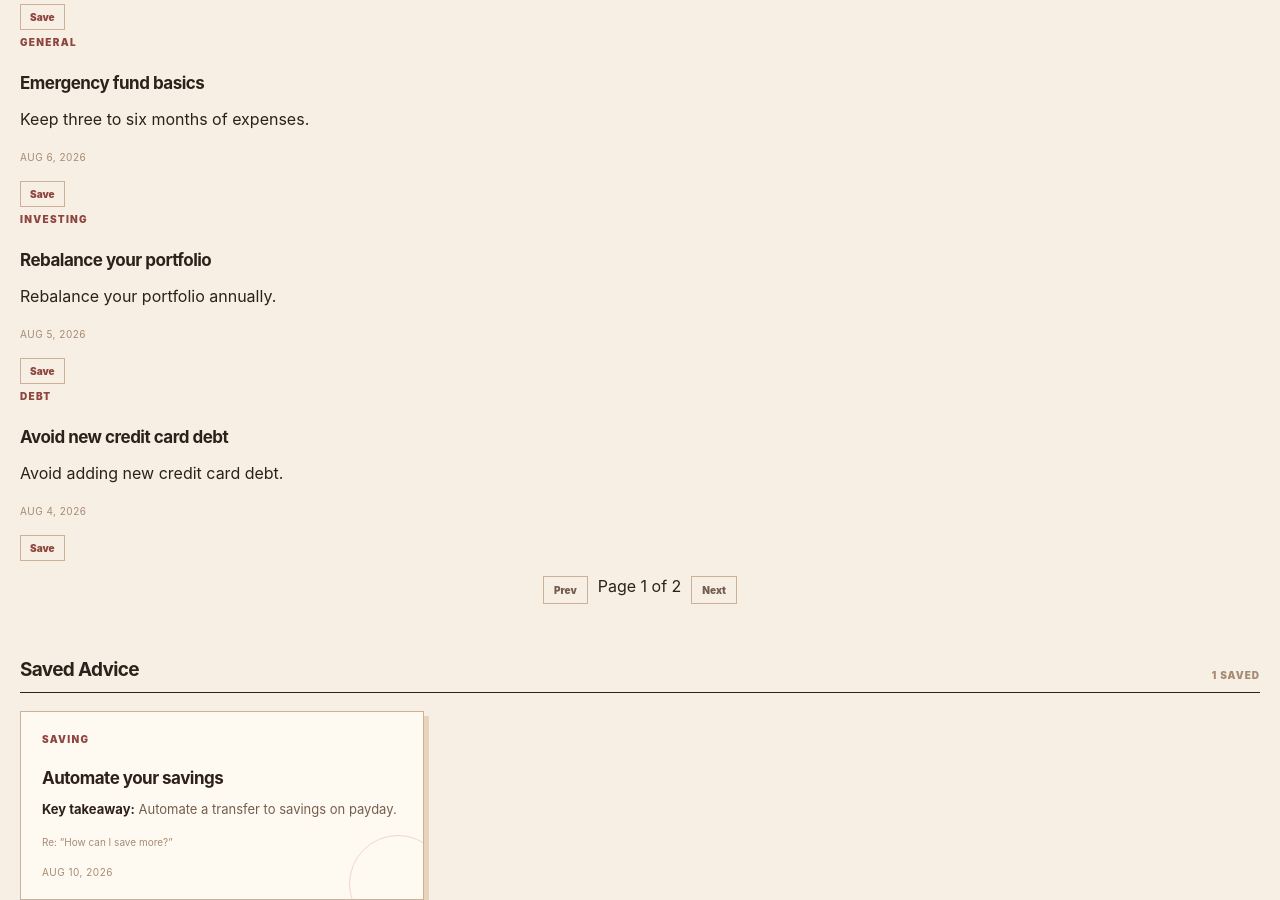
it: DashboardPage › paginates the Advice History list
(page scrolled)
Check: the text with class "dash-pager-info" reads "Page 1 of 2", box top-left (598, 576), bottom-right (681, 604)
Step 1. Click the button with class "dash-page-btn" showing "Next" → (714, 590), box top-left (691, 576), bottom-right (737, 604)
(page scrolled)
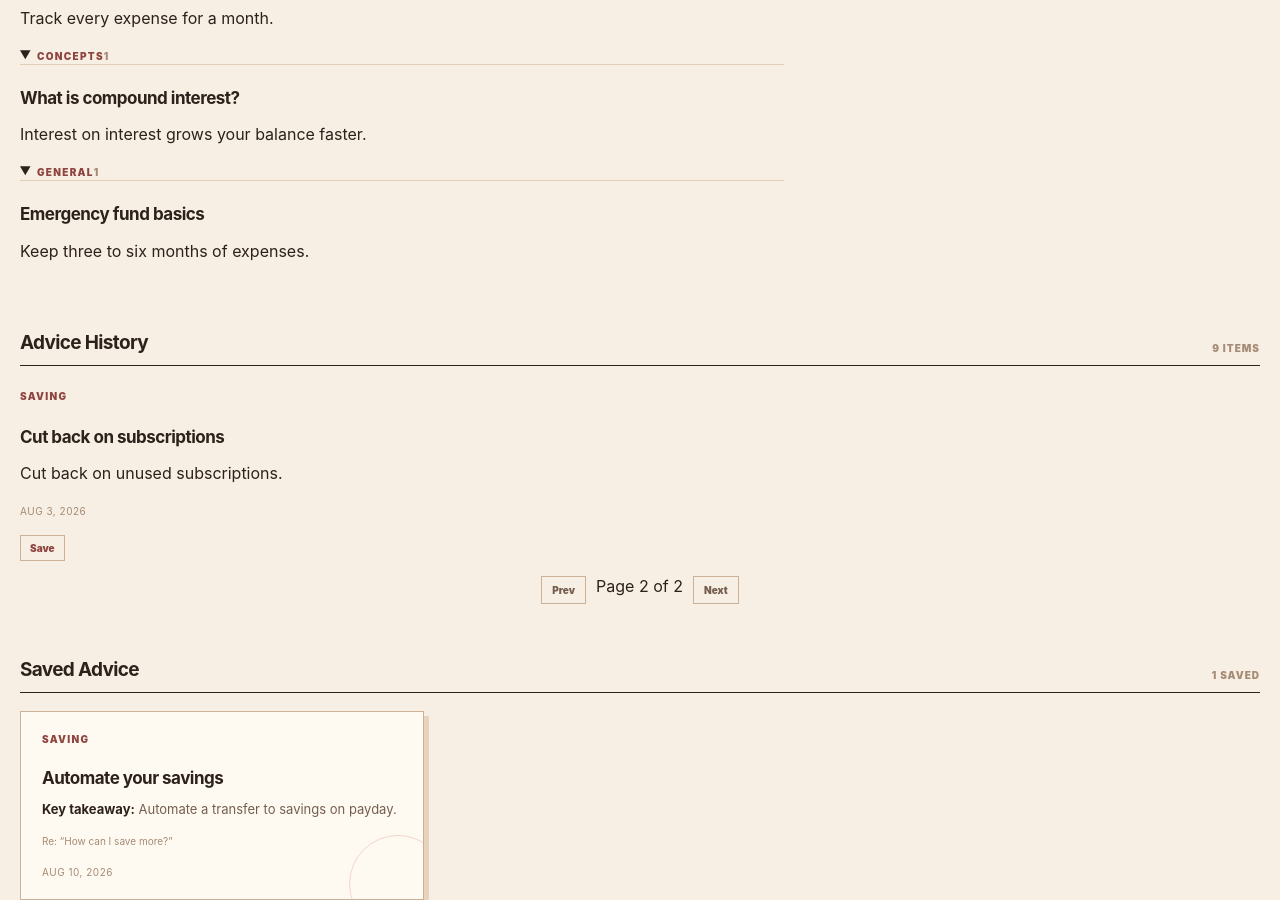
Check: the text with class "dash-pager-info" reads "Page 2 of 2", box top-left (596, 576), bottom-right (683, 604)
Check: the element with class "dashboard-section" shows "Cut back on subscriptions", box top-left (20, 426), bottom-right (224, 446)
